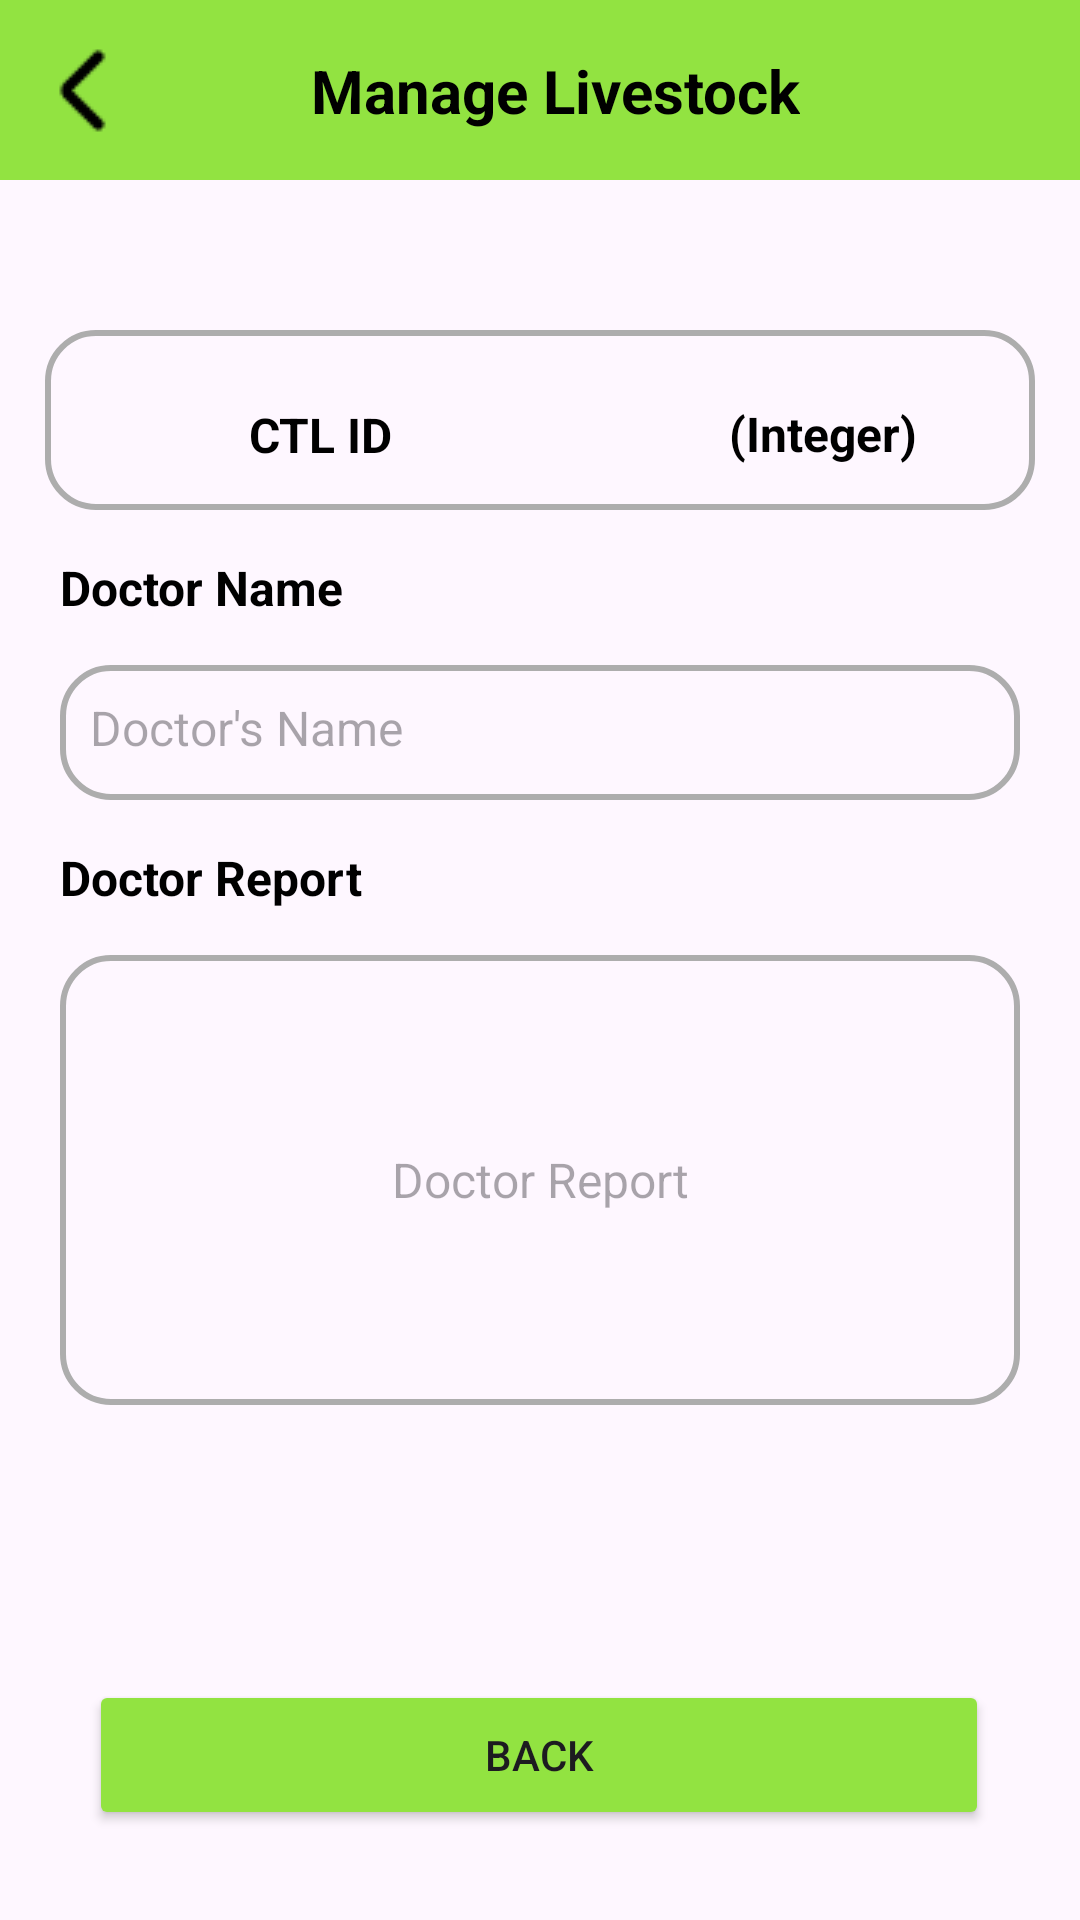

Locate icon controls on the screen. Image size 1080px×1920px, boxes as {"left": x1, "top": y1, "right": x2, "bottom": y2}.
back arrow: {"left": 59, "top": 49, "right": 106, "bottom": 132}
